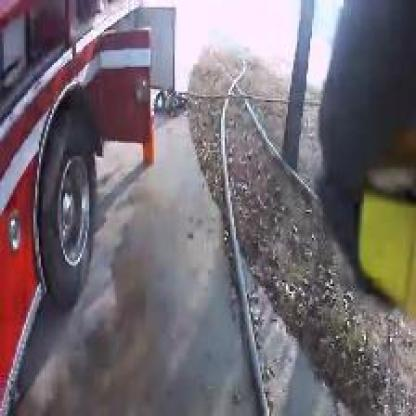other: (66, 28, 164, 148), (336, 187, 412, 290)
